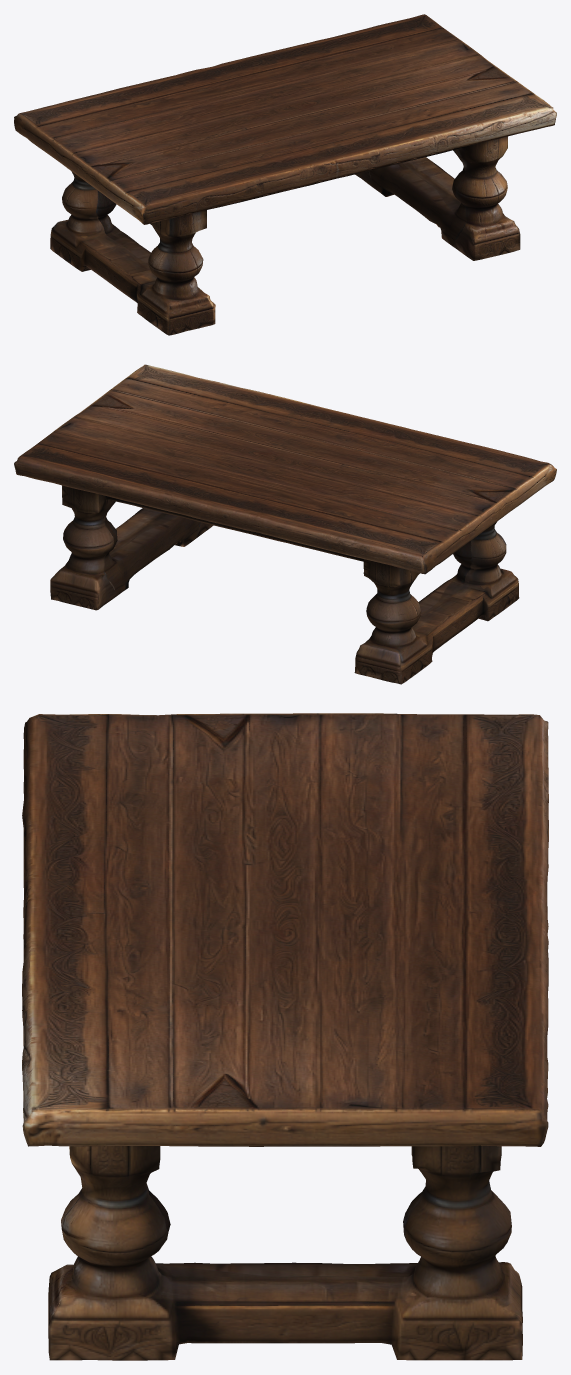
Rendered from tabletop.glb.
3 renders of one model, top to bottom at view 1: azimuth 30°, elevation 25°; view 2: azimuth 150°, elevation 25°; view 3: azimuth 270°, elevation 25°, orthographic. The views are drawn at different scales.
Bounding box in the file's own units: 2.01 × 0.6487 × 1.11.
1 material, 1 textured.
